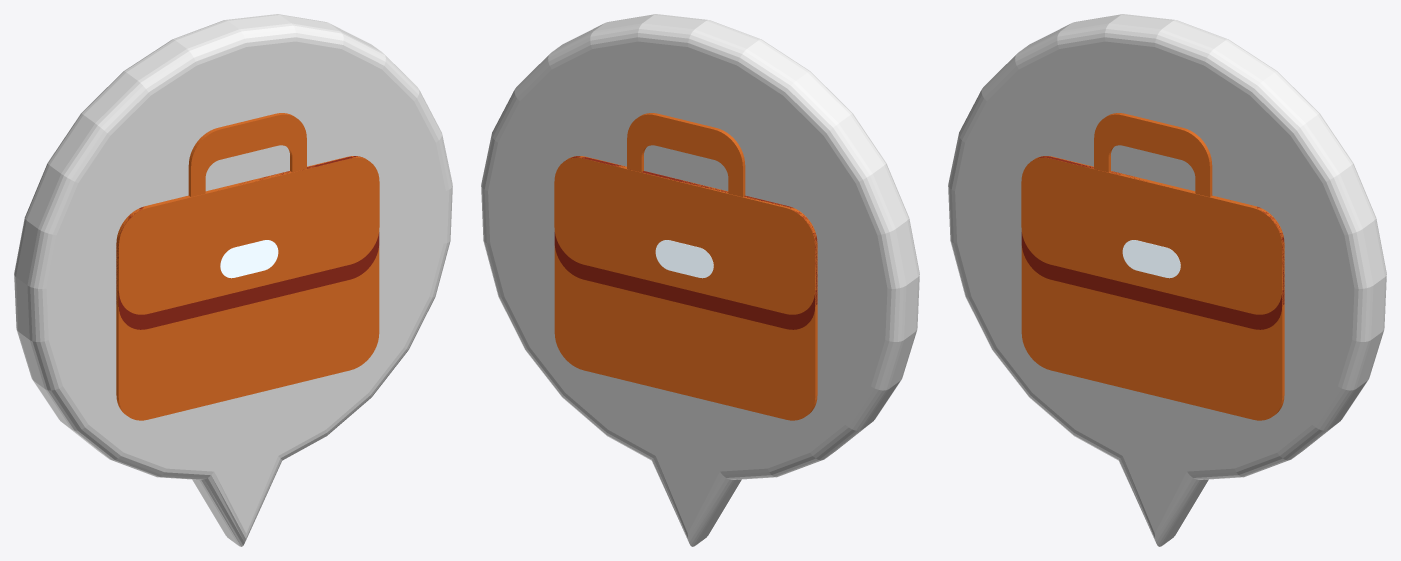
File: briefcase.glb
The picture shows the model from 3 angles, left to right: view 1: azimuth 30°, elevation 25°; view 2: azimuth 150°, elevation 25°; view 3: azimuth 330°, elevation 25°; orthographic projection.
Parts seen in each view (by area): view 1: EmotionBubble; view 2: EmotionBubble; view 3: EmotionBubble.
Part boxes in pixels (x1,y1,x2,y2): EmotionBubble: [14, 14, 452, 546]; EmotionBubble: [481, 14, 919, 546]; EmotionBubble: [948, 14, 1386, 546].
Size of the model in its own units: 5.29 by 6.16 by 0.688.
